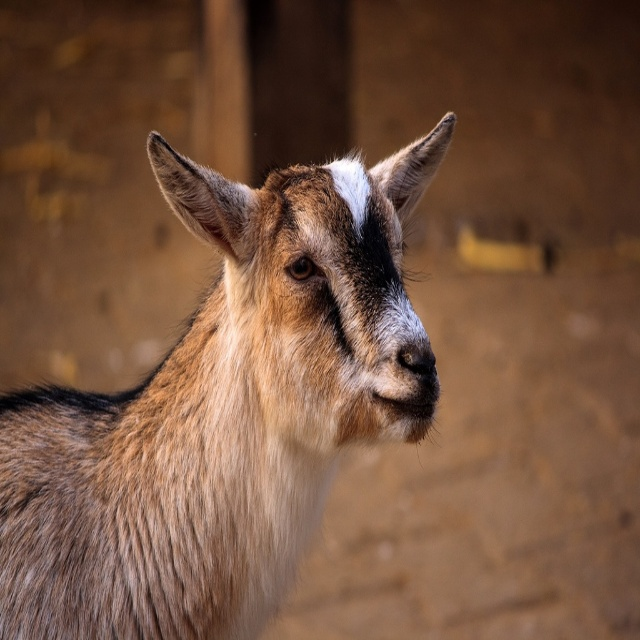Goat: (0, 88, 462, 620)
